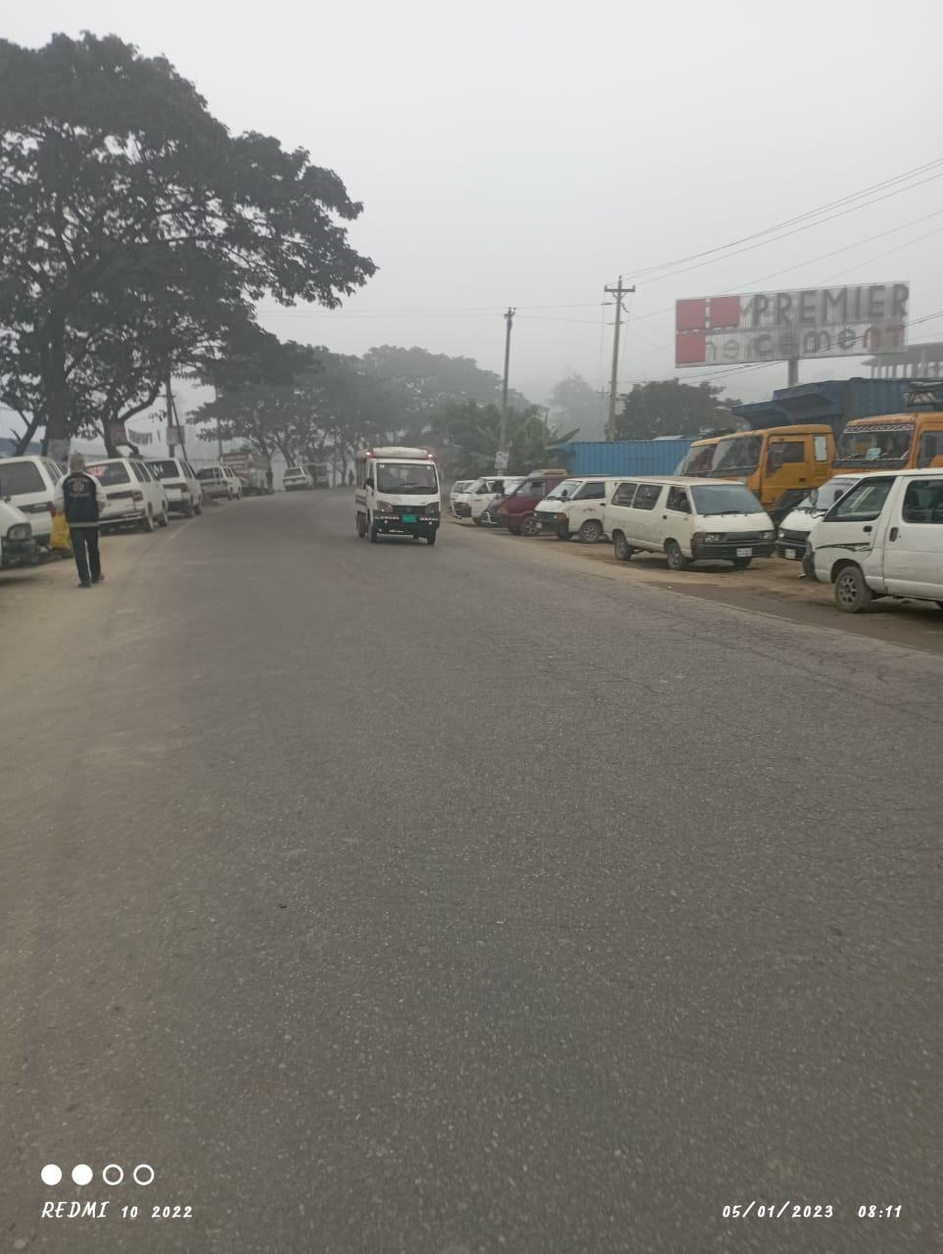Bus: (219, 440, 282, 505)
Car: (599, 469, 784, 584), (799, 465, 943, 612), (349, 446, 460, 552), (82, 444, 176, 536)
